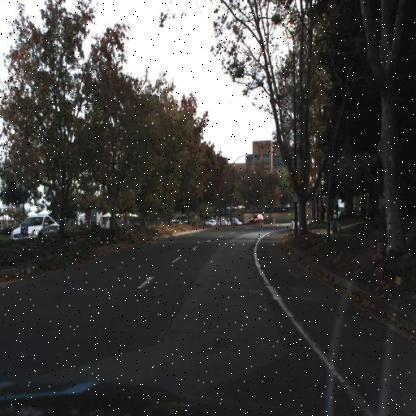car: (12, 214, 63, 248), (169, 210, 193, 229)
